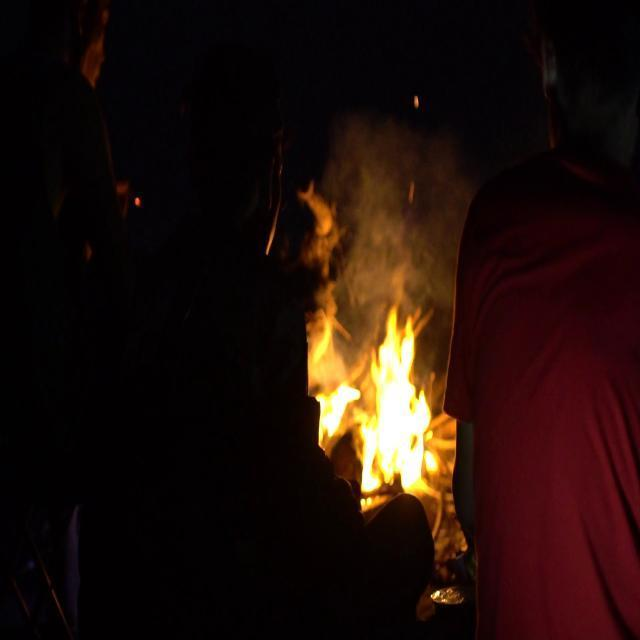Fire: (358, 317, 442, 501), (312, 377, 359, 448)
Smoke: (312, 104, 469, 340)
